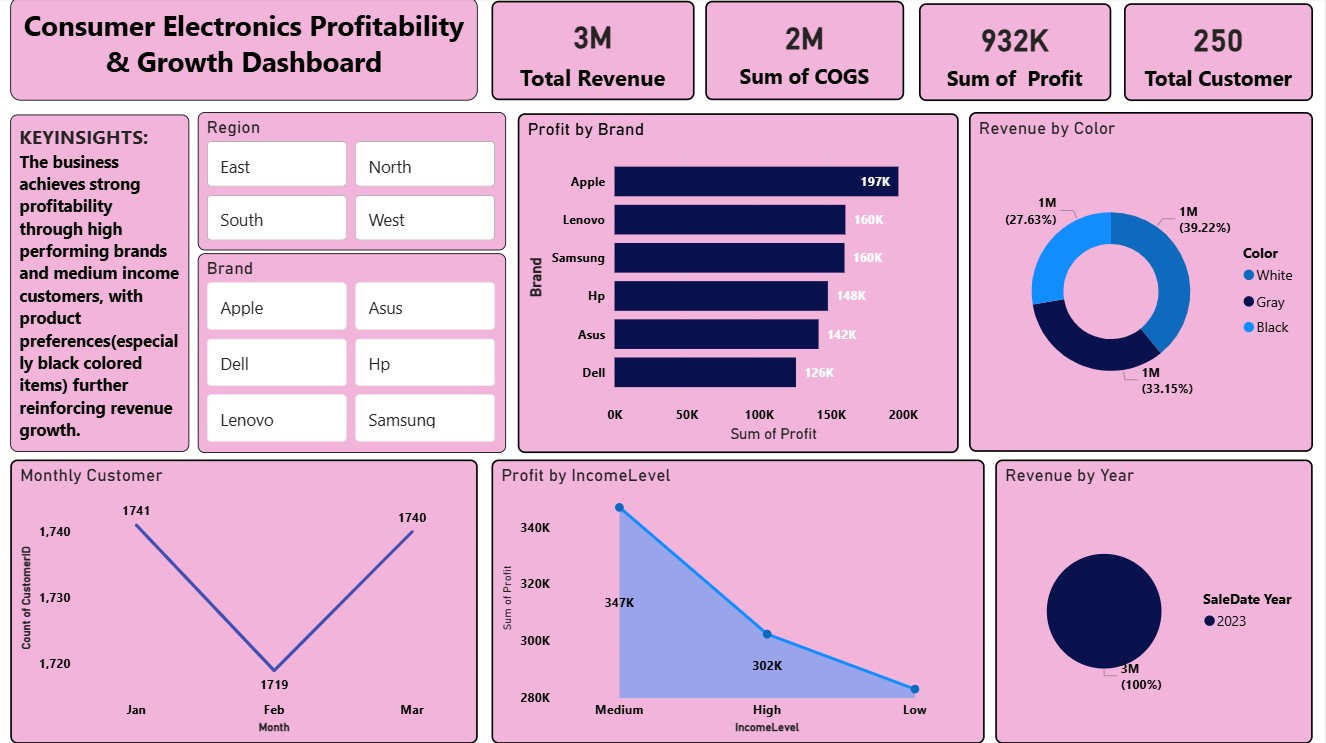

The page's visual inventory and layout, read from the dashboard file:
{"tool":"powerbi","page":{"name":"Page 1","canvas":[1280,720],"ordinal":0},"visuals":[{"type":"barChart","title":"Profit by Brand","fields":{"Category":["Products.Brand"],"Y":["Sales.Sum of  Profit"]},"box":[500.7,112.2,425.9,328.2],"z":0},{"type":"donutChart","title":"Revenue by Color","fields":{"Category":["Products.Color"],"Y":["Sales.Total Revenue"]},"box":[936.2,111,331.8,328.2],"z":1000},{"type":"pieChart","title":"Revenue by Year","fields":{"Category":["Sales.SaleDate.Variation.Date Hierarchy.Year"],"Y":["Sales.Total Revenue"]},"box":[961.9,446,306,274.4],"z":2000},{"type":"lineChart","title":"Monthly Customer","fields":{"Category":["Sales.Month"],"Y":["CountNonNull(Sales.CustomerID)"]},"box":[11,446,451.5,274.4],"z":3000},{"type":"stackedAreaChart","title":"Profit by IncomeLevel","fields":{"Category":["Customers.IncomeLevel"],"Y":["Sales.Sum of  Profit"]},"box":[474.8,446,476.2,274.4],"z":4000},{"type":"card","fields":{"Values":["Sales.Total Revenue"]},"box":[474.8,4.1,196.2,96.1],"z":5000},{"type":"card","fields":{"Values":["Sales.Total Cost"]},"box":[682,4.1,192.1,96.1],"z":6000},{"type":"card","fields":{"Values":["Sales.Total Profit"]},"box":[887.8,5.5,185.2,94.7],"z":7000},{"type":"card","fields":{"Values":["Sales.Total Customer"]},"box":[1085.4,5.5,182.5,94.7],"z":8000},{"type":"textbox","box":[11,0,451.5,100.2],"z":9000},{"type":"advancedSlicerVisual","fields":{"Values":["Customers.Region"]},"box":[191.8,111,298,133.9],"z":10000},{"type":"advancedSlicerVisual","fields":{"Values":["Products.Brand"]},"box":[191.8,247.3,298,193],"z":11000},{"type":"textbox","box":[10.9,113.4,172.5,325.7],"z":12000}]}

Visuals, with their boxes in screenshot pixels (x1, y1, x2, y2), scaled from the page's 1280x720 canvas onto the 1326x743 screenshot:
"Profit by Brand" barChart: {"x1": 519, "y1": 116, "x2": 960, "y2": 454}
"Revenue by Color" donutChart: {"x1": 970, "y1": 115, "x2": 1314, "y2": 453}
"Revenue by Year" pieChart: {"x1": 996, "y1": 460, "x2": 1313, "y2": 742}
"Monthly Customer" lineChart: {"x1": 11, "y1": 460, "x2": 479, "y2": 742}
"Profit by IncomeLevel" stackedAreaChart: {"x1": 492, "y1": 460, "x2": 985, "y2": 742}
card - Sales.Total Revenue: {"x1": 492, "y1": 4, "x2": 695, "y2": 103}
card - Sales.Total Cost: {"x1": 707, "y1": 4, "x2": 906, "y2": 103}
card - Sales.Total Profit: {"x1": 920, "y1": 6, "x2": 1112, "y2": 103}
card - Sales.Total Customer: {"x1": 1124, "y1": 6, "x2": 1313, "y2": 103}
textbox: {"x1": 11, "y1": 0, "x2": 479, "y2": 103}
advancedSlicerVisual - Customers.Region: {"x1": 199, "y1": 115, "x2": 507, "y2": 253}
advancedSlicerVisual - Products.Brand: {"x1": 199, "y1": 255, "x2": 507, "y2": 454}
textbox: {"x1": 11, "y1": 117, "x2": 190, "y2": 453}
